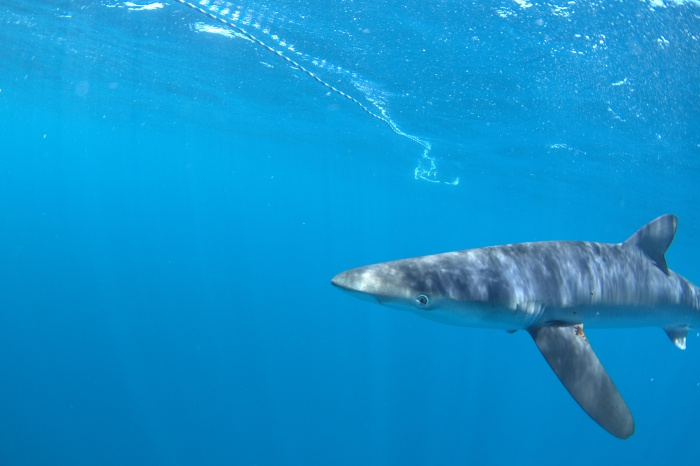Azul: (334, 192, 700, 443)
